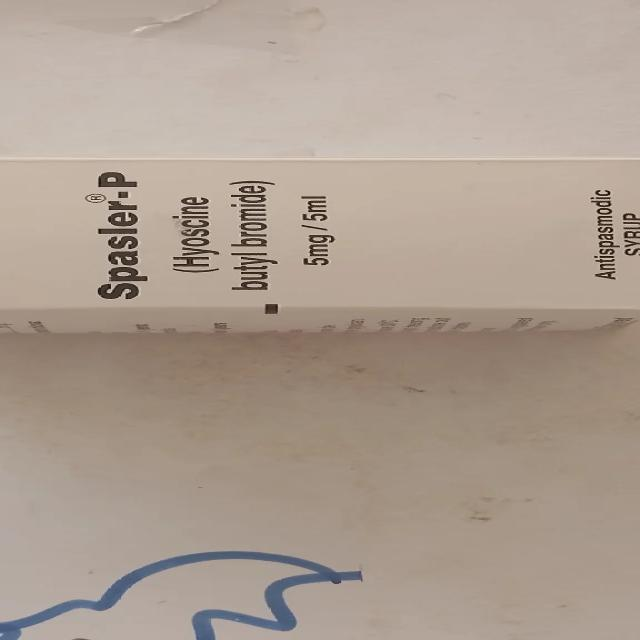drug-name: (87, 168, 150, 306)
